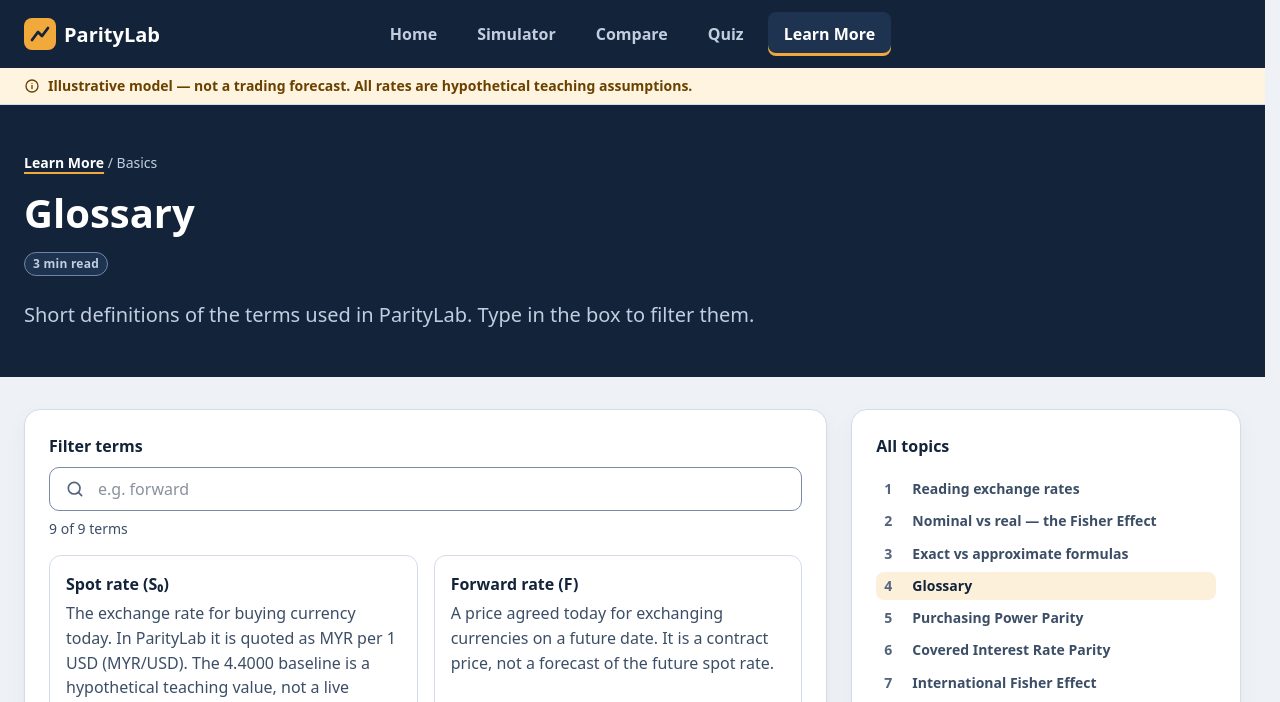
Test case: Learn More › the glossary can be filtered
The width and height of the screenshot is (1280, 702).
expect the text "Spot rate (S₀)" is shown: met, box left=66, top=573, right=169, bottom=595
In the search field labelled "Filter terms": {"x": 426, "y": 489} left=49, top=467, right=802, bottom=511, type "forward"
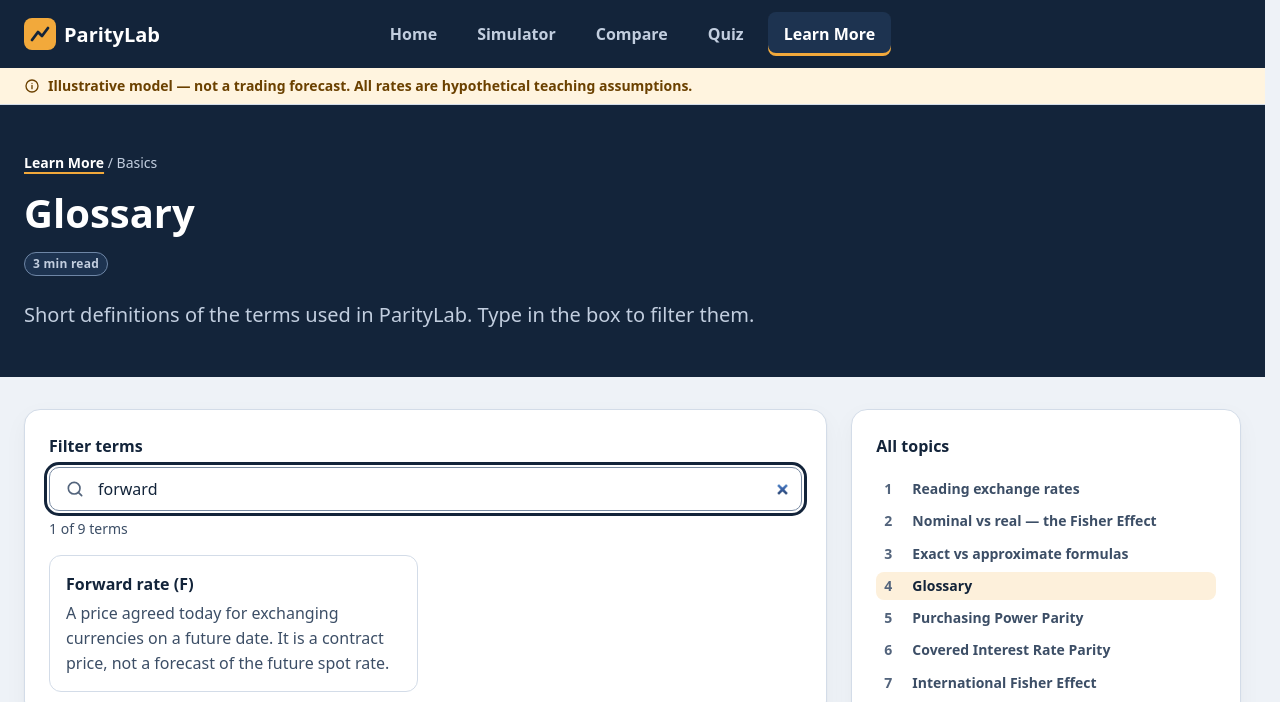
expect the text "Forward rate (F)" is shown: met, box left=66, top=573, right=194, bottom=595
expect the text "Spot rate (S₀)" is gone: met
